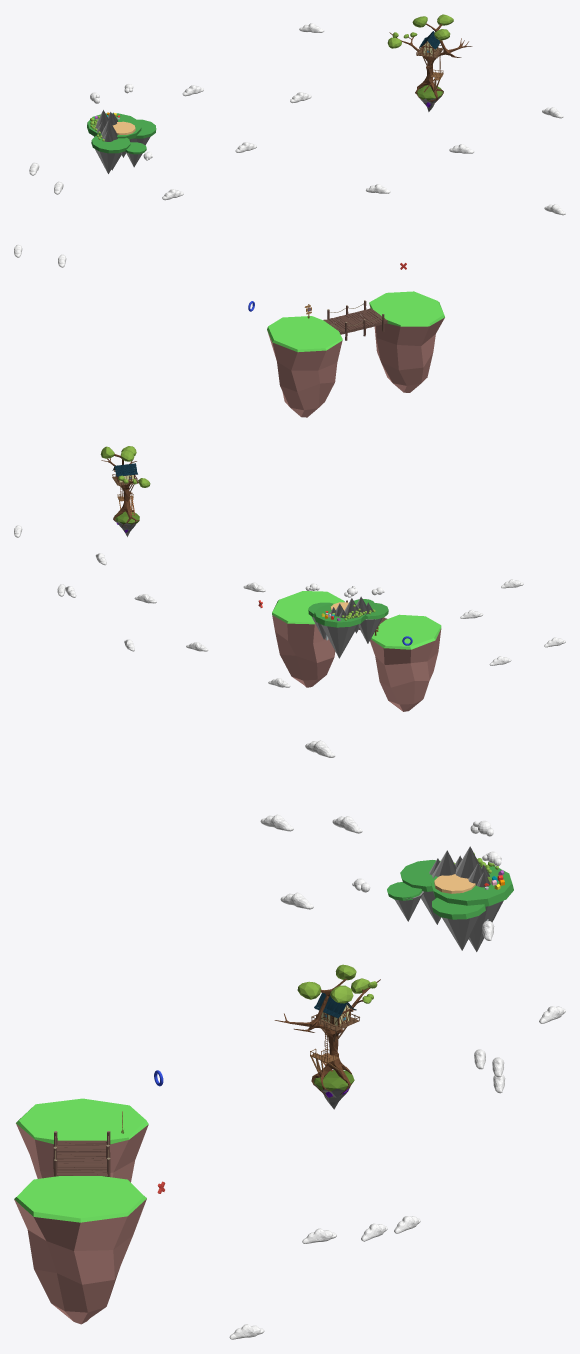
The model's file is Island.glb.
The picture shows the model from 3 angles, top to bottom: view 1: azimuth 30°, elevation 25°; view 2: azimuth 150°, elevation 25°; view 3: azimuth 270°, elevation 25°; orthographic projection. The views are drawn at different scales.
Visible parts, largest first — view 1: Xland, Oland, FlatingIsland1, Leaves.251, Dock_Wide; view 2: Xland, Oland, FlatingIsland1, Leaves.251; view 3: Oland, FlatingIsland1, Xland, Leaves.251, Dock_Wide.
Boxes of the visible parts, bbox=[...] form: Xland: bbox=[267, 316, 342, 417]; Oland: bbox=[369, 291, 444, 392]; FlatingIsland1: bbox=[87, 83, 156, 173]; Leaves.251: bbox=[387, 14, 472, 111]; Dock_Wide: bbox=[323, 300, 387, 340]; Xland: bbox=[370, 614, 441, 711]; Oland: bbox=[272, 591, 344, 687]; FlatingIsland1: bbox=[305, 583, 388, 658]; Leaves.251: bbox=[100, 446, 150, 536]; Oland: bbox=[14, 1176, 146, 1324]; FlatingIsland1: bbox=[352, 820, 513, 951]; Xland: bbox=[16, 1098, 148, 1182]; Leaves.251: bbox=[274, 964, 380, 1109]; Dock_Wide: bbox=[53, 1131, 110, 1176].
Bounding box in the file's own units: 659 × 320 × 372.
24 materials, 1 textured.
